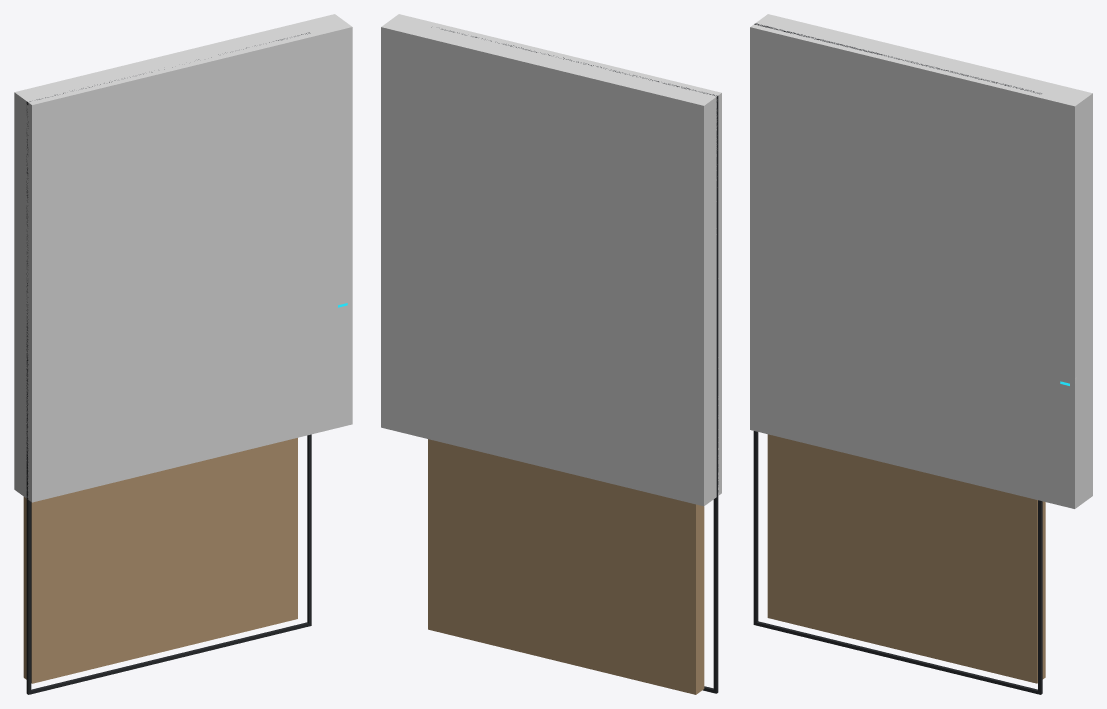
File: Arch_Door.gltf
3 views of the same model, side by side, from view 1: azimuth 30°, elevation 25°; view 2: azimuth 150°, elevation 25°; view 3: azimuth 330°, elevation 25° (orthographic).
Parts seen in each view (by area): view 1: Arch_Door_COL, Arch_Door; view 2: Arch_Door_COL, Arch_Door; view 3: Arch_Door_COL, Arch_Door.
Boxes of the visible parts, bbox=[...] form: Arch_Door_COL: bbox=[14, 14, 352, 502]; Arch_Door: bbox=[23, 32, 347, 694]; Arch_Door_COL: bbox=[381, 14, 721, 506]; Arch_Door: bbox=[428, 27, 718, 694]; Arch_Door_COL: bbox=[750, 14, 1092, 508]; Arch_Door: bbox=[753, 23, 1076, 694].
Bounding box in the file's own units: 1.33 × 2.34 × 0.127.
